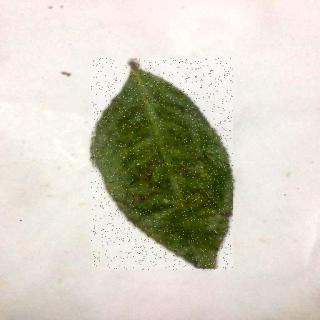Red Leaf Spot: (92, 60, 234, 272)
